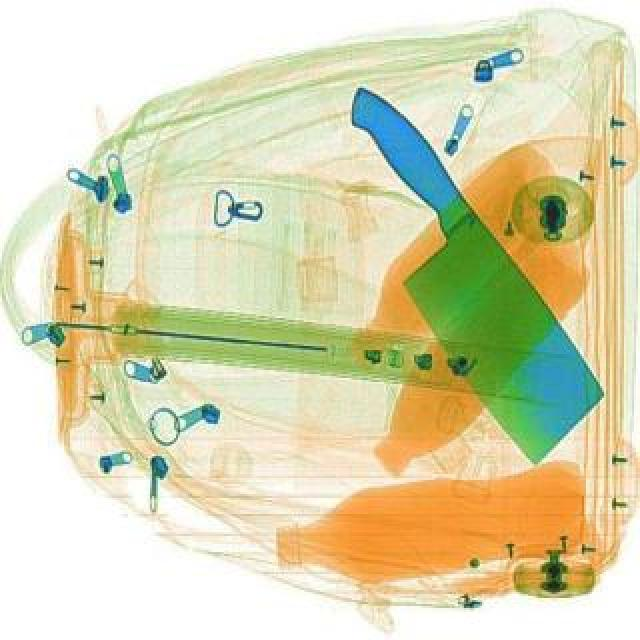knife: (278, 72, 628, 472)
